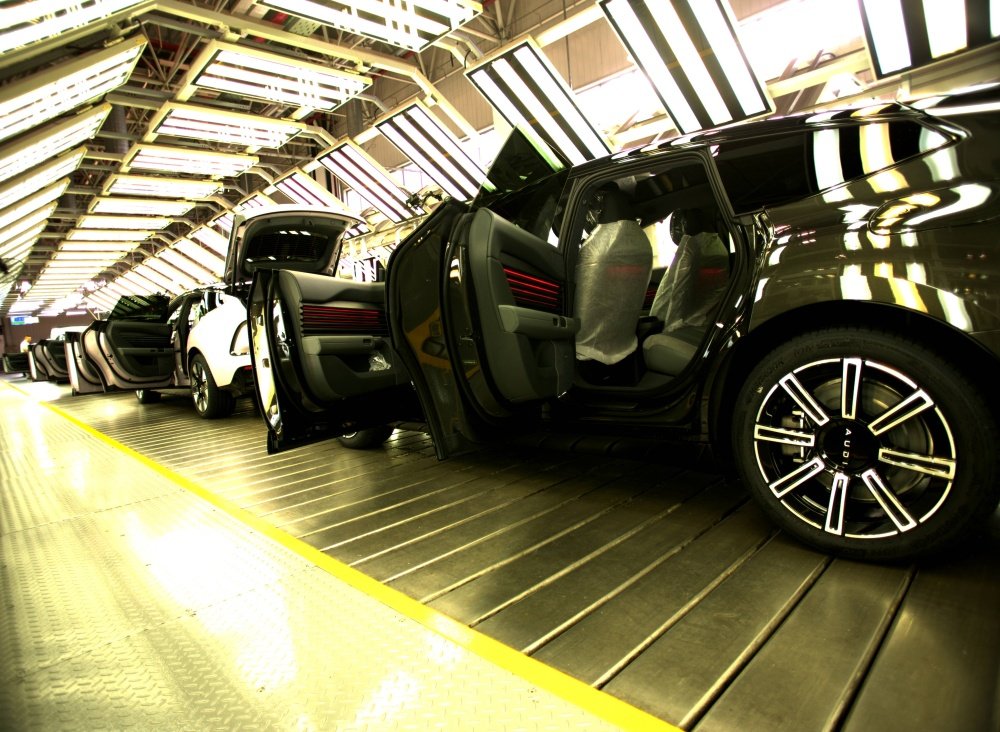armrest_color: (497, 303, 578, 339), (300, 333, 385, 355)
panel_color: (500, 261, 565, 314), (300, 302, 380, 333)
